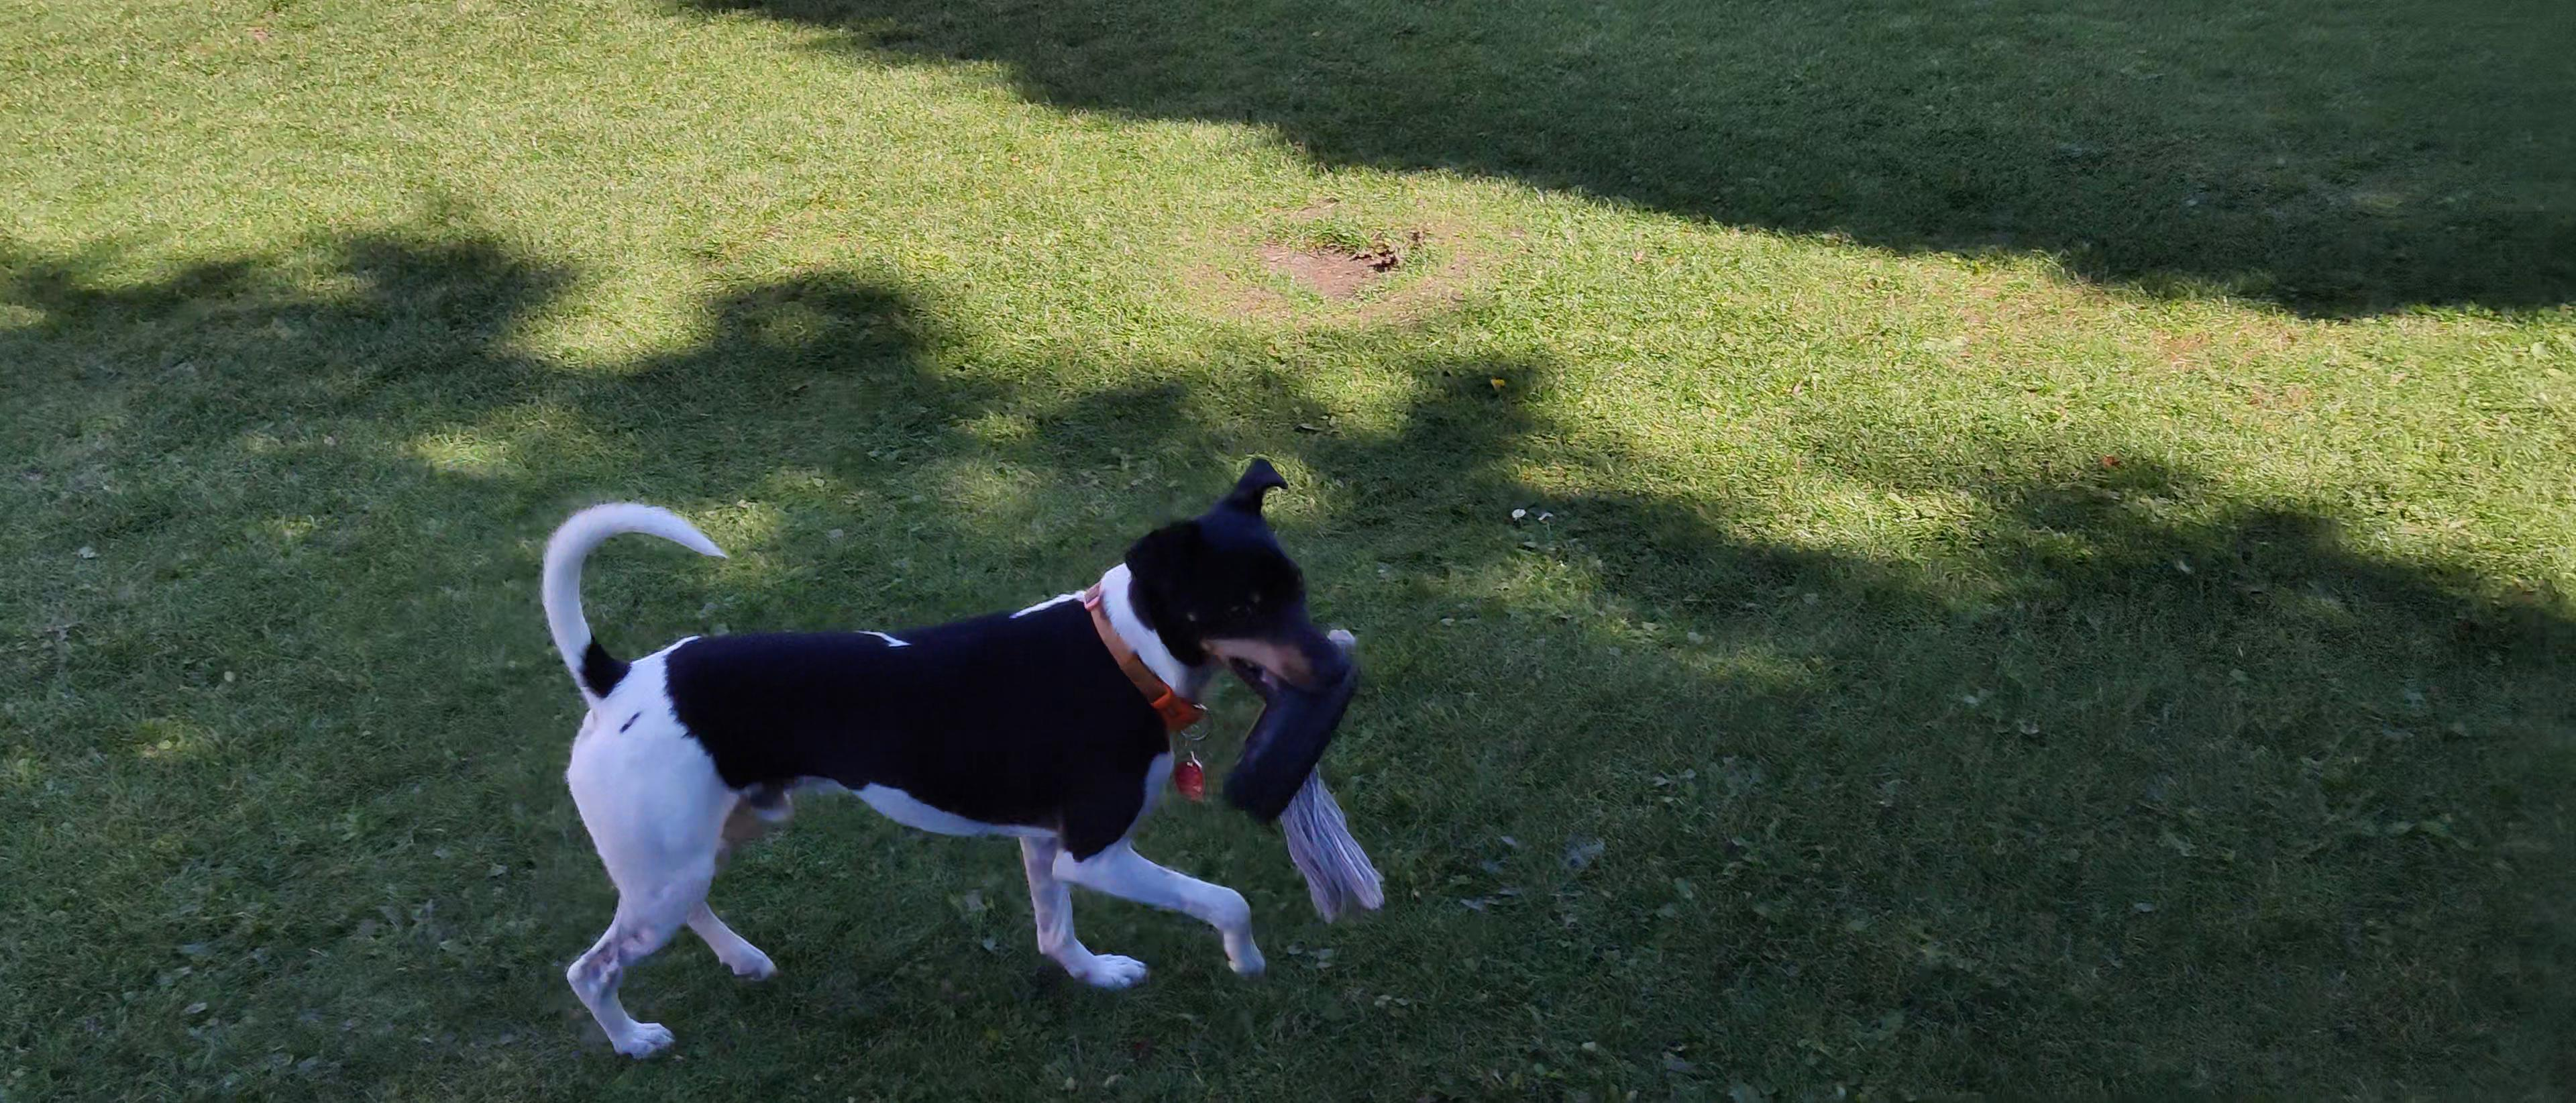Dog: (509, 449, 1350, 1067)
